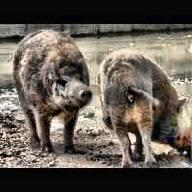boar: (95, 44, 182, 164), (7, 19, 87, 149)
